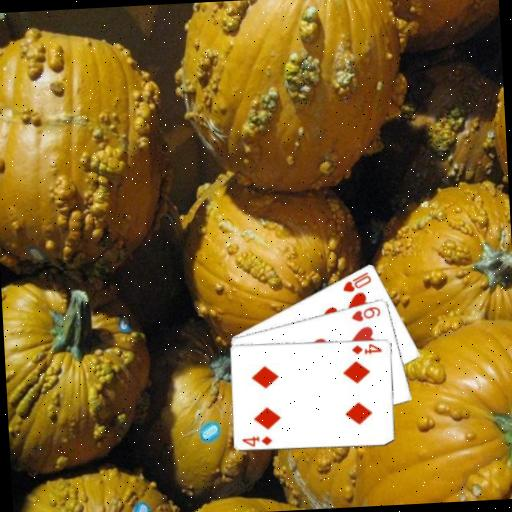10H: (339, 269, 374, 294)
4D: (349, 340, 384, 357), (239, 432, 275, 448)
6H: (349, 303, 383, 323)
